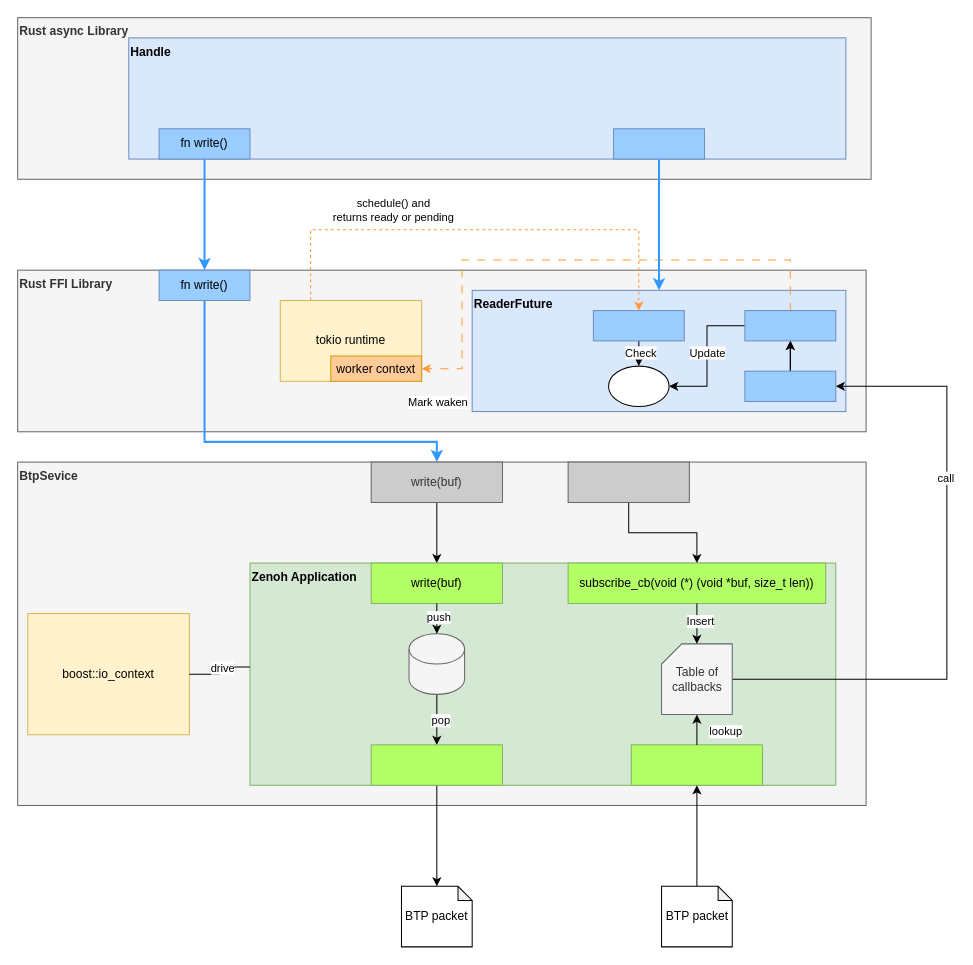
Some shapes in this 973 by 965 pixel diagram are drawn without their labels. The centre of each missing label's shape, as x and y in pixels:
async fn read(): the point at 658,143
callback(): the point at 790,385
indication(): the point at 696,764
poll(context): the point at 638,325
State: the point at 638,386
subscribe_cb(void*): the point at 628,481
timer_callback(): the point at 436,764
wake(context): the point at 790,325
write buffer: the point at 436,663
